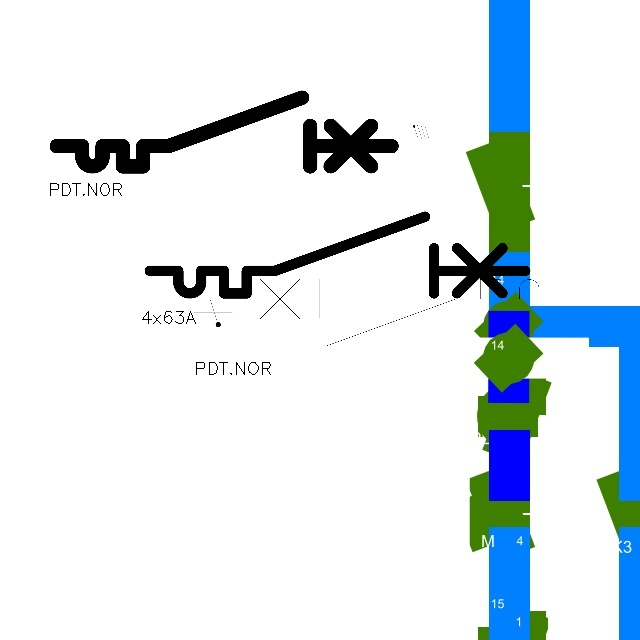interruptor_termomagnetico: (140, 207, 535, 303), (48, 89, 400, 175), (232, 271, 571, 354)
